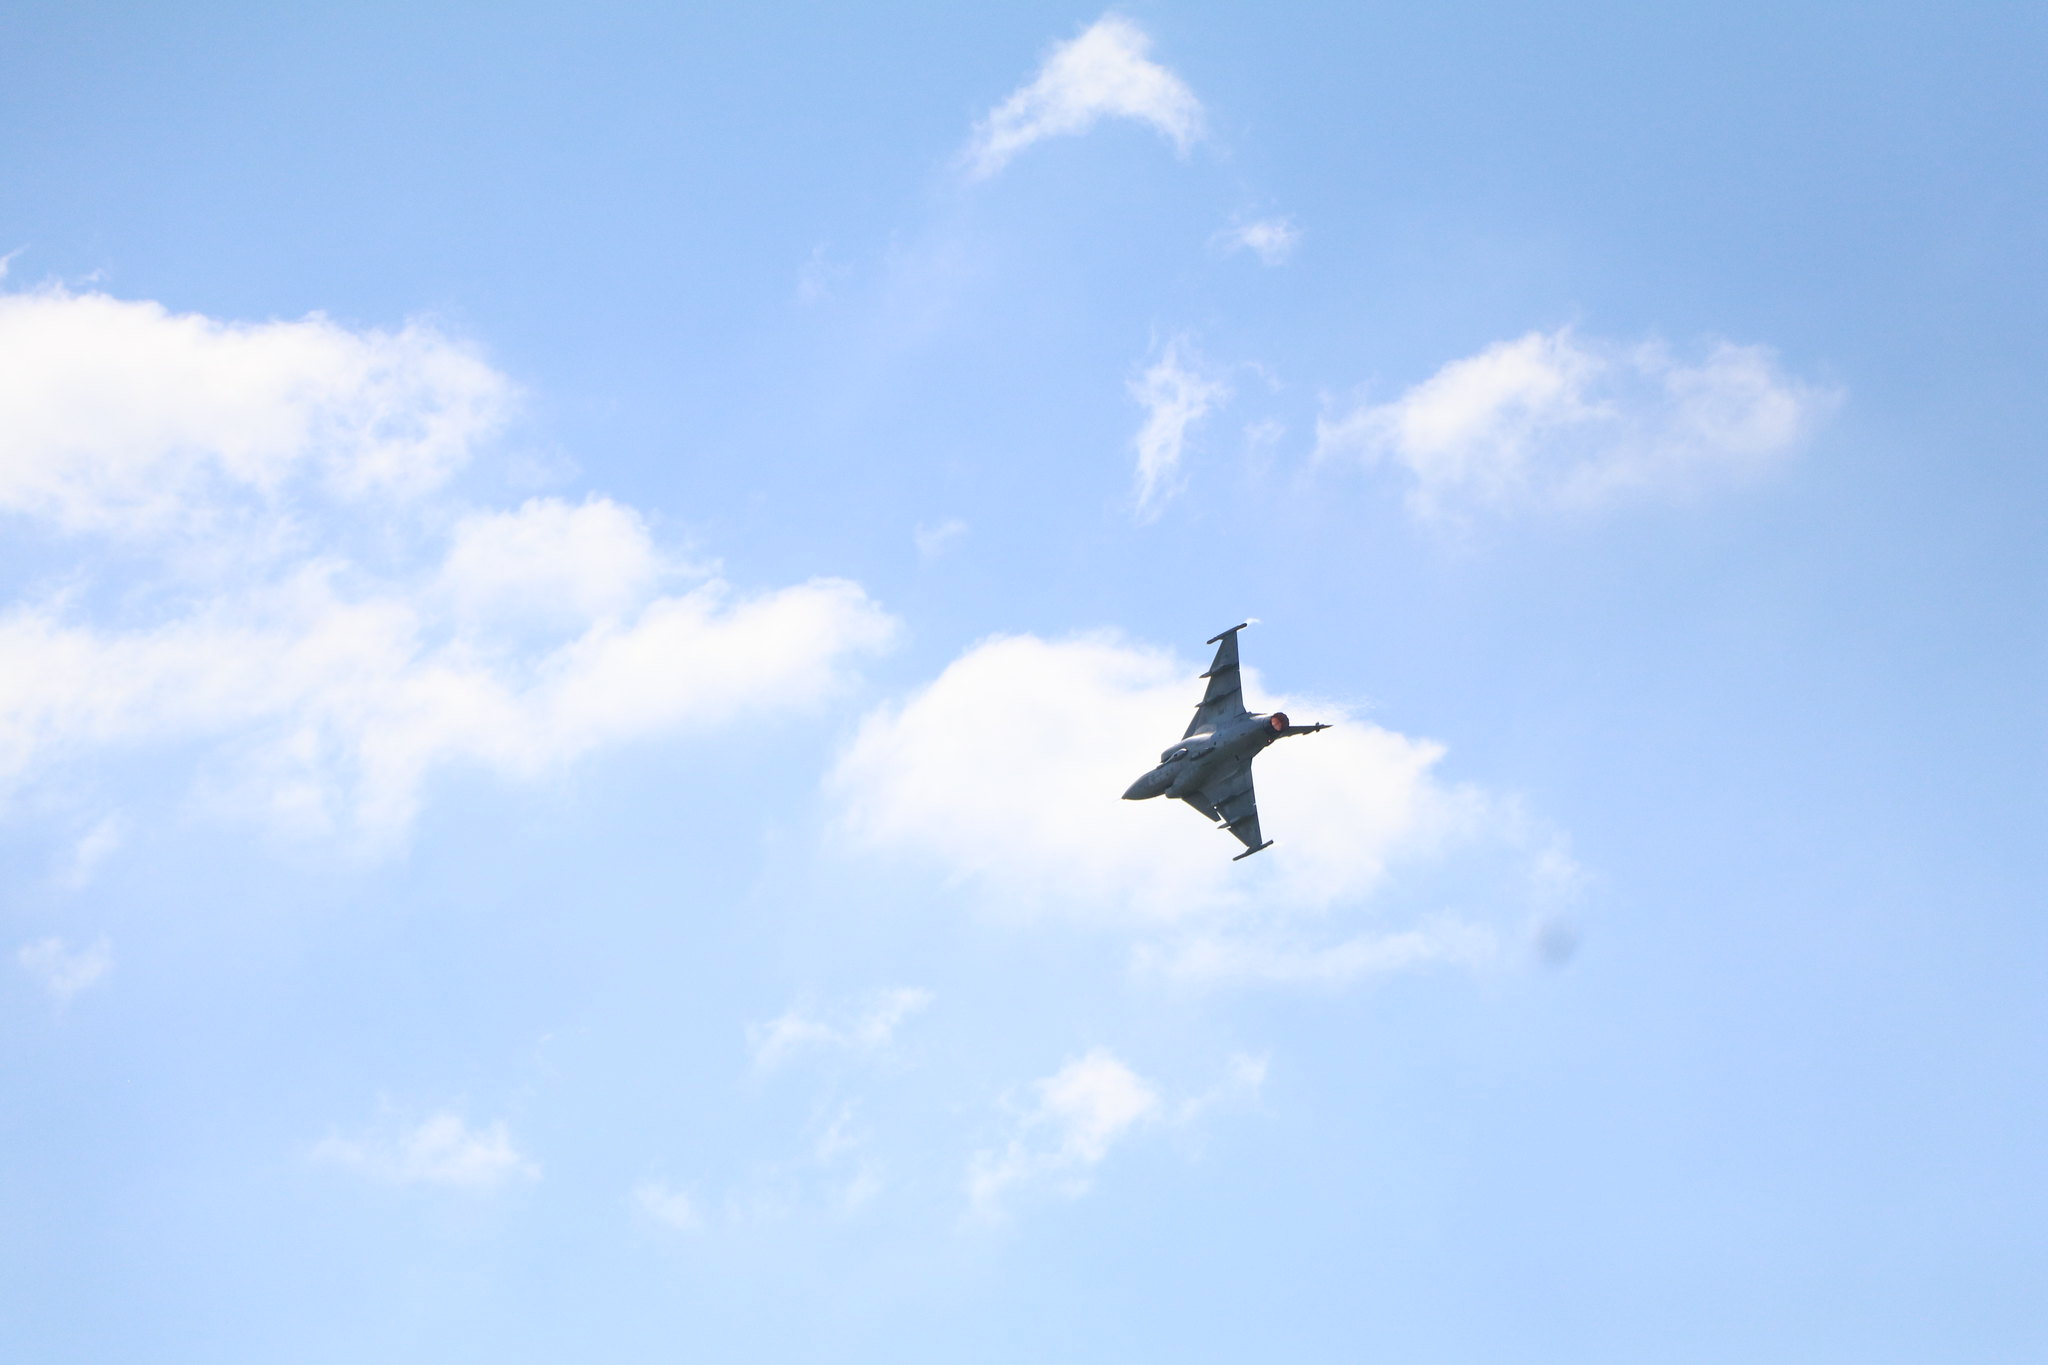JAS39: (1112, 622, 1334, 862)
